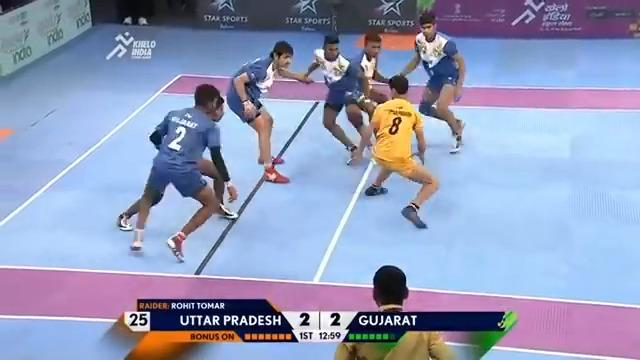Player: (116, 82, 239, 262), (225, 39, 312, 184), (397, 12, 466, 153), (303, 34, 373, 165)
Raider: (360, 73, 440, 230)
referee: (333, 264, 457, 359)
